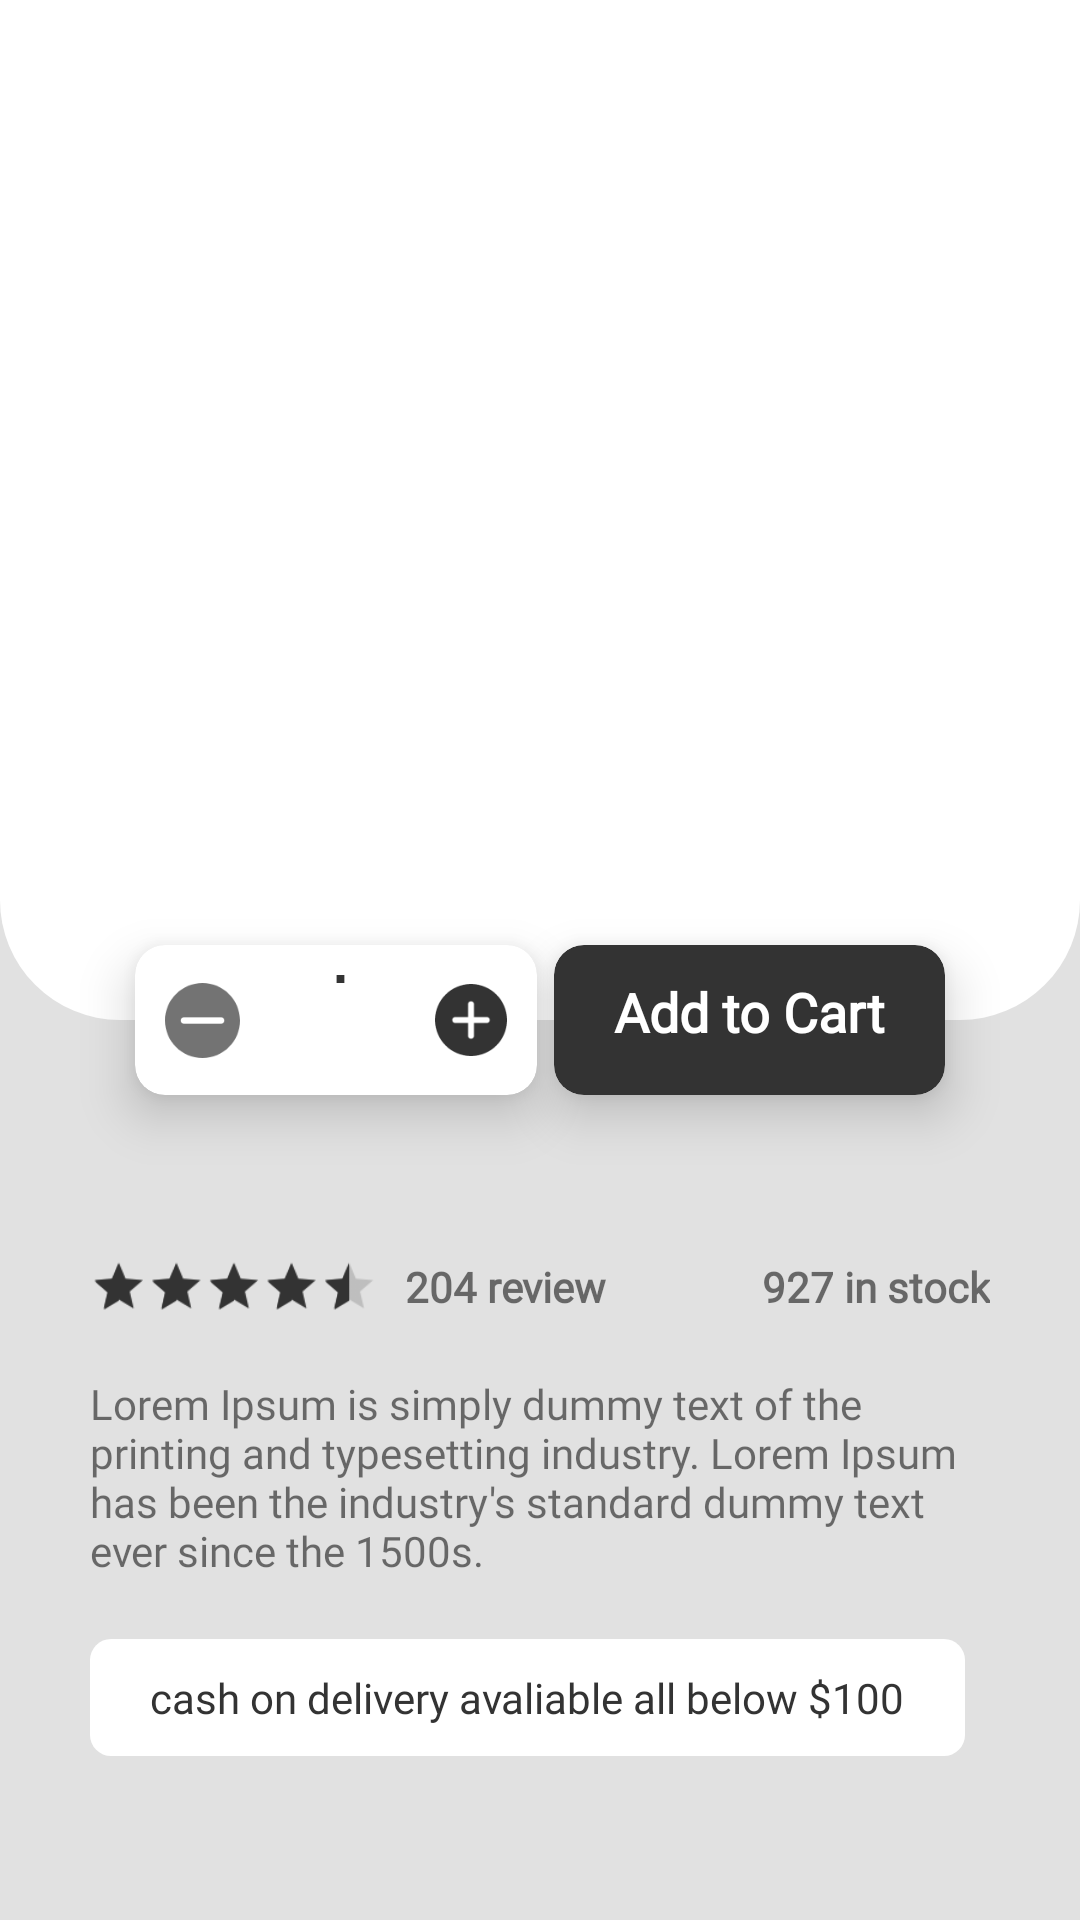

Screen size 1080w x 1920h. Icon name, then its center in pixels as [x,y]:
Decrease quantity by 1: [202,1020]
Increase quantity by 1: [471,1020]
